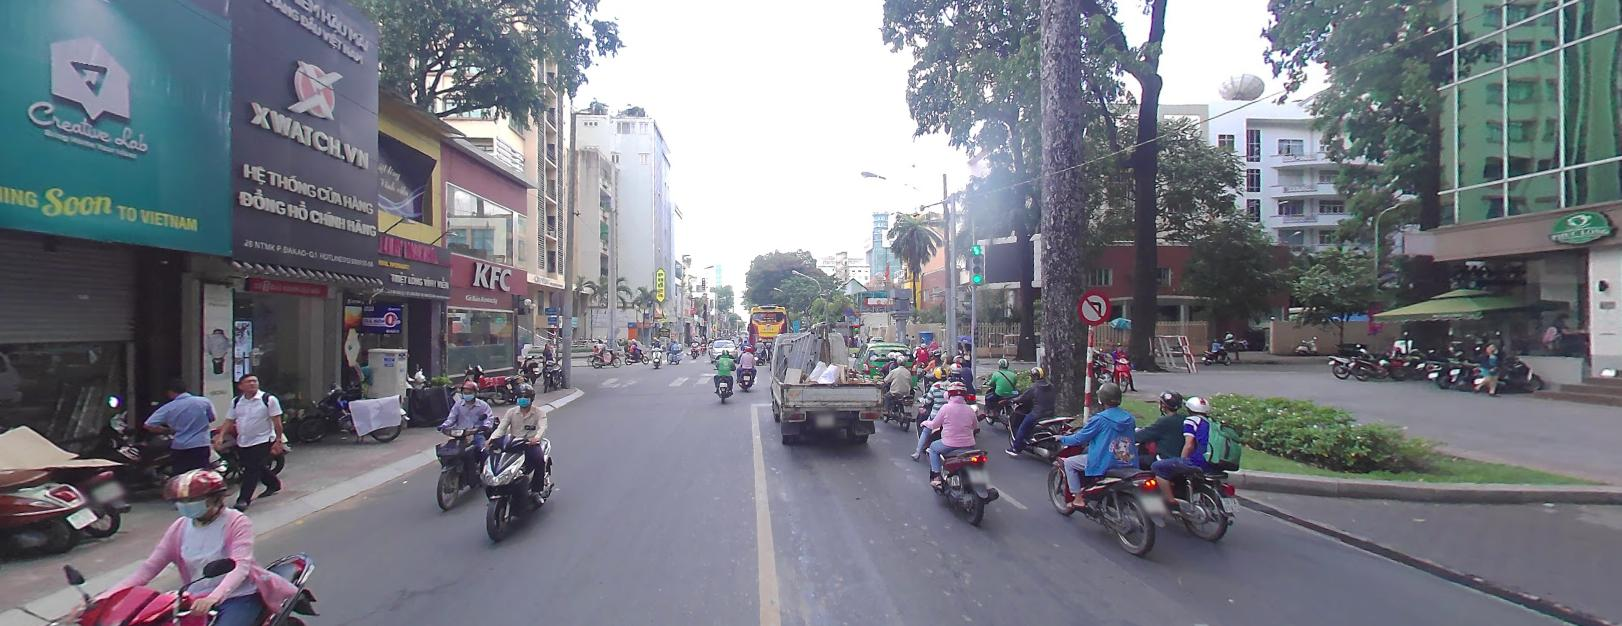Cam dung va do: (843, 305, 852, 315)
Cam re: (1075, 289, 1112, 323)
